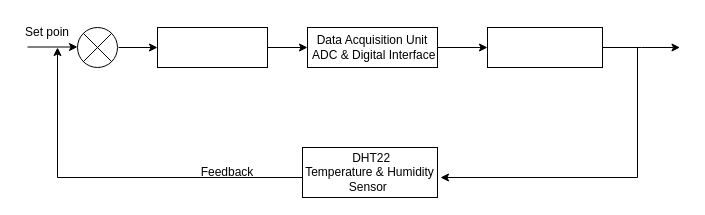
This 705x215 diagram has some shape labels left out. Here are the shapes that lost their labels. From the top down, the centre of each, then its label:
At point (212, 47): "ESP32-S3 Rust Embedded System".
At point (544, 47): "Monitoring Process/System".
